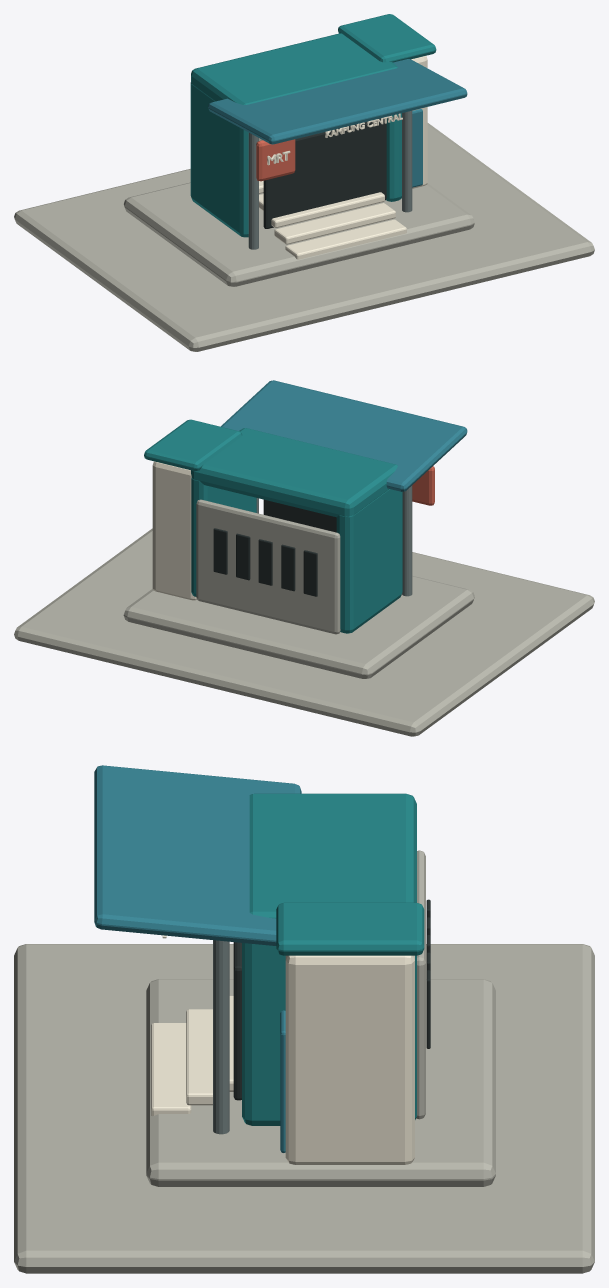
File: mrt-v2.glb
The picture shows the model from 3 angles, top to bottom: view 1: azimuth 30°, elevation 25°; view 2: azimuth 150°, elevation 25°; view 3: azimuth 270°, elevation 25°; orthographic projection. The views are drawn at different scales.
Visible parts, largest first — view 1: Ground, NEIGHBOURHOOD MRT ENTRANCE · Deep teal, NEIGHBOURHOOD MRT ENTRANCE · Concrete, NEIGHBOURHOOD MRT ENTRANCE · Graphic glass, NEIGHBOURHOOD MRT ENTRANCE · Ink, NEIGHBOURHOOD MRT ENTRANCE · Chalk, NEIGHBOURHOOD MRT ENTRANCE · Dark metal, NEIGHBOURHOOD MRT ENTRANCE · Terracotta; view 2: Ground, NEIGHBOURHOOD MRT ENTRANCE · Concrete, NEIGHBOURHOOD MRT ENTRANCE · Deep teal, NEIGHBOURHOOD MRT ENTRANCE · Graphic glass, NEIGHBOURHOOD MRT ENTRANCE · Chalk, NEIGHBOURHOOD MRT ENTRANCE · Ink, NEIGHBOURHOOD MRT ENTRANCE · Dark metal, NEIGHBOURHOOD MRT ENTRANCE · Terracotta; view 3: Ground, NEIGHBOURHOOD MRT ENTRANCE · Deep teal, NEIGHBOURHOOD MRT ENTRANCE · Chalk, NEIGHBOURHOOD MRT ENTRANCE · Concrete, NEIGHBOURHOOD MRT ENTRANCE · Graphic glass, NEIGHBOURHOOD MRT ENTRANCE · Dark metal, NEIGHBOURHOOD MRT ENTRANCE · Ink.
Part boxes in pixels (x1,y1,x2,y2): Ground: (14, 123, 594, 351); NEIGHBOURHOOD MRT ENTRANCE · Deep teal: (190, 14, 436, 237); NEIGHBOURHOOD MRT ENTRANCE · Concrete: (123, 138, 474, 286); NEIGHBOURHOOD MRT ENTRANCE · Graphic glass: (208, 59, 467, 187); NEIGHBOURHOOD MRT ENTRANCE · Ink: (263, 118, 386, 228); NEIGHBOURHOOD MRT ENTRANCE · Chalk: (259, 56, 427, 259); NEIGHBOURHOOD MRT ENTRANCE · Dark metal: (248, 110, 412, 249); NEIGHBOURHOOD MRT ENTRANCE · Terracotta: (256, 139, 295, 181); Ground: (14, 528, 594, 736); NEIGHBOURHOOD MRT ENTRANCE · Concrete: (123, 499, 474, 678); NEIGHBOURHOOD MRT ENTRANCE · Deep teal: (144, 419, 402, 633); NEIGHBOURHOOD MRT ENTRANCE · Graphic glass: (221, 380, 467, 491); NEIGHBOURHOOD MRT ENTRANCE · Chalk: (152, 461, 196, 600); NEIGHBOURHOOD MRT ENTRANCE · Ink: (213, 499, 336, 596); NEIGHBOURHOOD MRT ENTRANCE · Dark metal: (256, 485, 412, 596); NEIGHBOURHOOD MRT ENTRANCE · Terracotta: (412, 466, 434, 505); Ground: (14, 944, 594, 1273); NEIGHBOURHOOD MRT ENTRANCE · Deep teal: (242, 793, 424, 1125); NEIGHBOURHOOD MRT ENTRANCE · Chalk: (151, 935, 414, 1164); NEIGHBOURHOOD MRT ENTRANCE · Concrete: (146, 850, 495, 1186); NEIGHBOURHOOD MRT ENTRANCE · Graphic glass: (94, 765, 301, 1152); NEIGHBOURHOOD MRT ENTRANCE · Dark metal: (213, 940, 229, 1134); NEIGHBOURHOOD MRT ENTRANCE · Ink: (233, 899, 430, 1100).
Bounding box in the file's own units: 9 × 3.71 × 6.98.
1 material, 1 textured.
